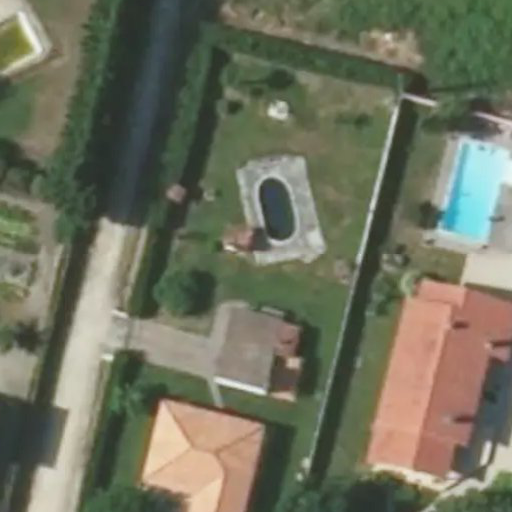pool: (224, 213, 285, 270)
